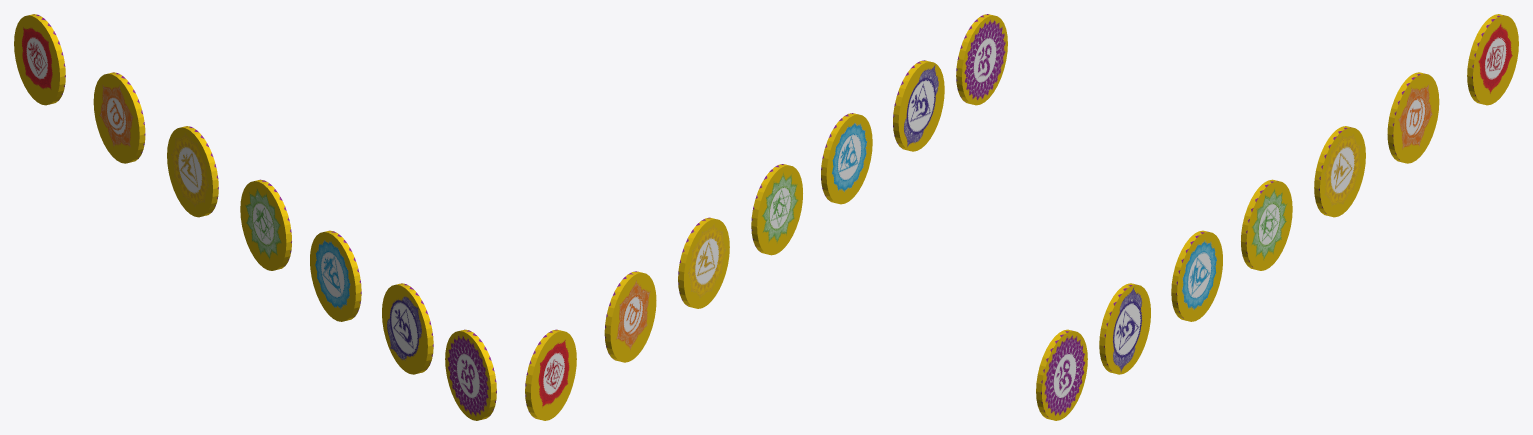
Rendered from chakrasfbx.fbx.
The picture shows the model from 3 angles, left to right: view 1: azimuth 30°, elevation 25°; view 2: azimuth 150°, elevation 25°; view 3: azimuth 330°, elevation 25°; orthographic projection.
Visible parts, largest first — view 1: Cylinder.005, Cylinder.001, Cylinder.003, Cylinder.004, Cylinder, Cylinder.002, Cylinder.006; view 2: Cylinder.005, Cylinder.001, Cylinder.003, Cylinder.004, Cylinder, Cylinder.002, Cylinder.006; view 3: Cylinder.005, Cylinder.001, Cylinder.003, Cylinder.004, Cylinder, Cylinder.002, Cylinder.006.
Part boxes in pixels (<box>): Cylinder.005: <box>93,72,145,163</box>; Cylinder.001: <box>382,283,433,374</box>; Cylinder.003: <box>240,179,291,270</box>; Cylinder.004: <box>167,126,218,217</box>; Cylinder: <box>445,329,496,420</box>; Cylinder.002: <box>310,230,361,321</box>; Cylinder.006: <box>14,14,65,105</box>; Cylinder.005: <box>604,271,656,362</box>; Cylinder.001: <box>893,60,944,151</box>; Cylinder.003: <box>751,164,802,255</box>; Cylinder.004: <box>678,217,729,308</box>; Cylinder: <box>956,14,1007,105</box>; Cylinder.002: <box>821,113,872,204</box>; Cylinder.006: <box>525,329,576,420</box>; Cylinder.005: <box>1387,72,1439,163</box>; Cylinder.001: <box>1099,283,1150,374</box>; Cylinder.003: <box>1241,179,1292,270</box>; Cylinder.004: <box>1314,126,1365,217</box>; Cylinder: <box>1036,329,1087,420</box>; Cylinder.002: <box>1171,230,1222,321</box>; Cylinder.006: <box>1467,14,1518,105</box>.
Size of the model in its own units: 14.53 by 200 by 2072.
